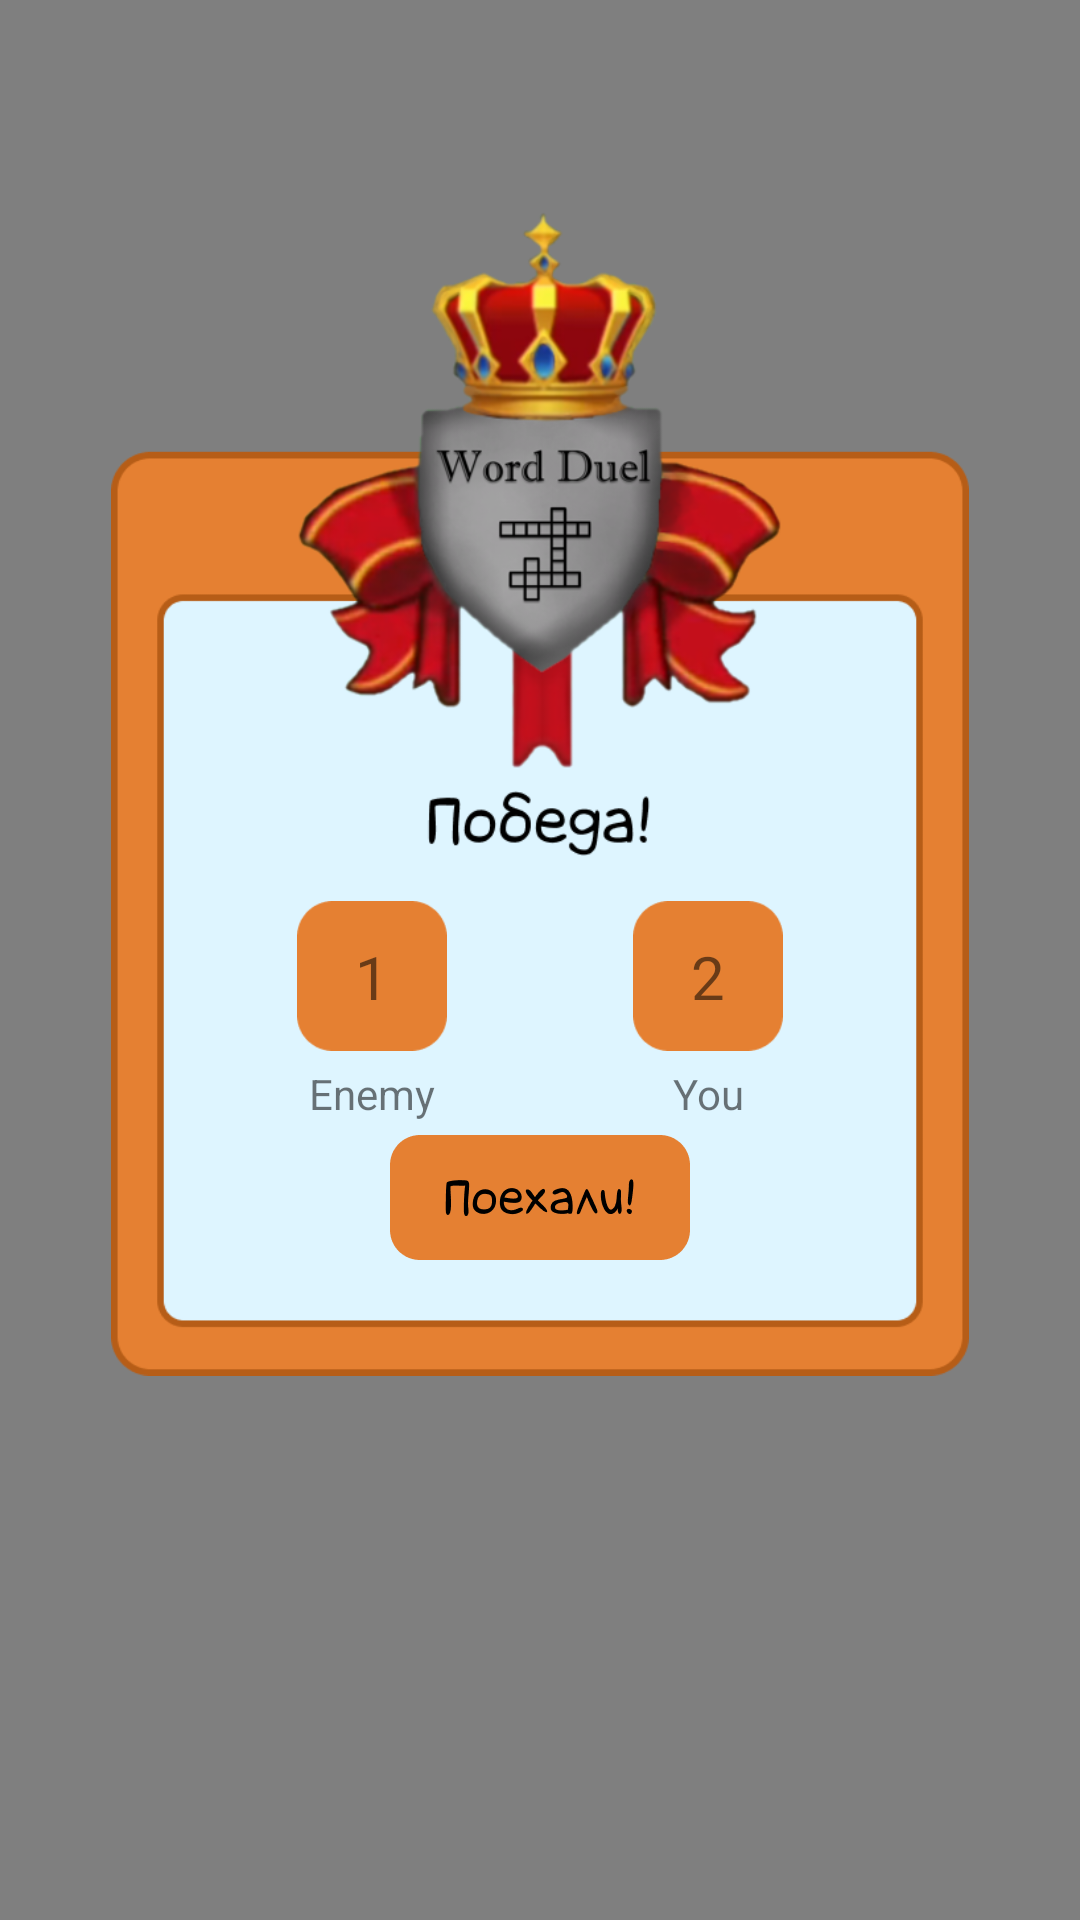

Where icons sit on this 1080px x 1920px app screen, as [x1=x1, y1=y1, x2=x2, y2=y2]:
kvadrat: [x1=297, y1=901, x2=447, y2=1051], [x1=633, y1=901, x2=783, y2=1051]
